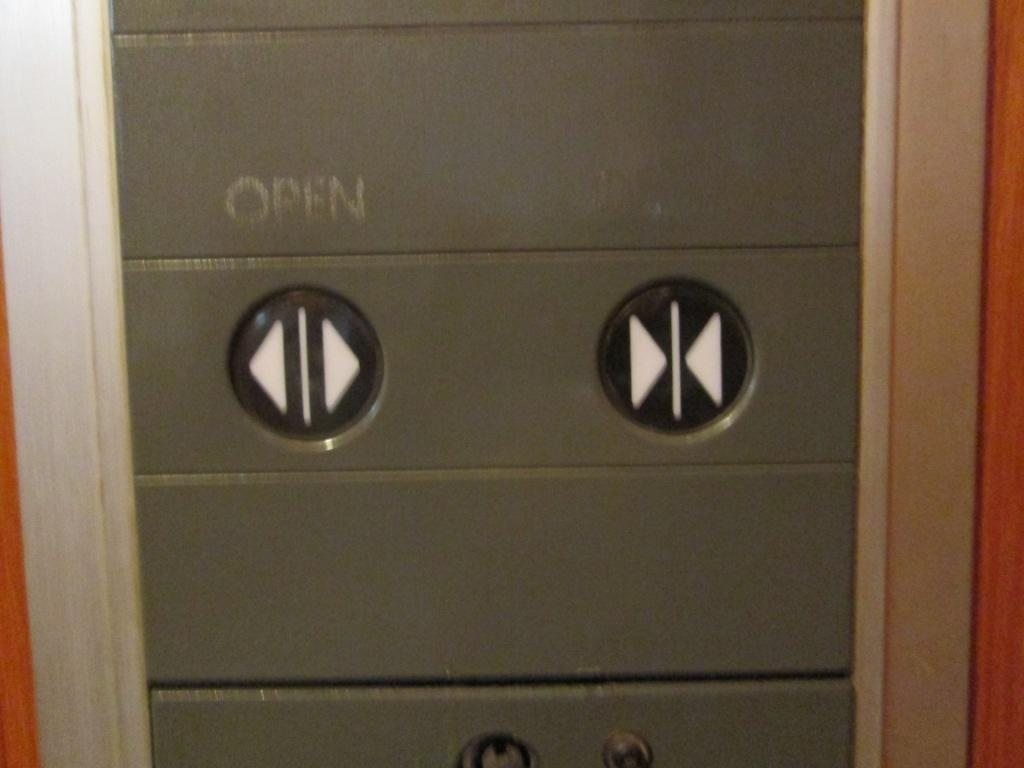close: (586, 268, 764, 448)
open: (216, 276, 394, 456)
